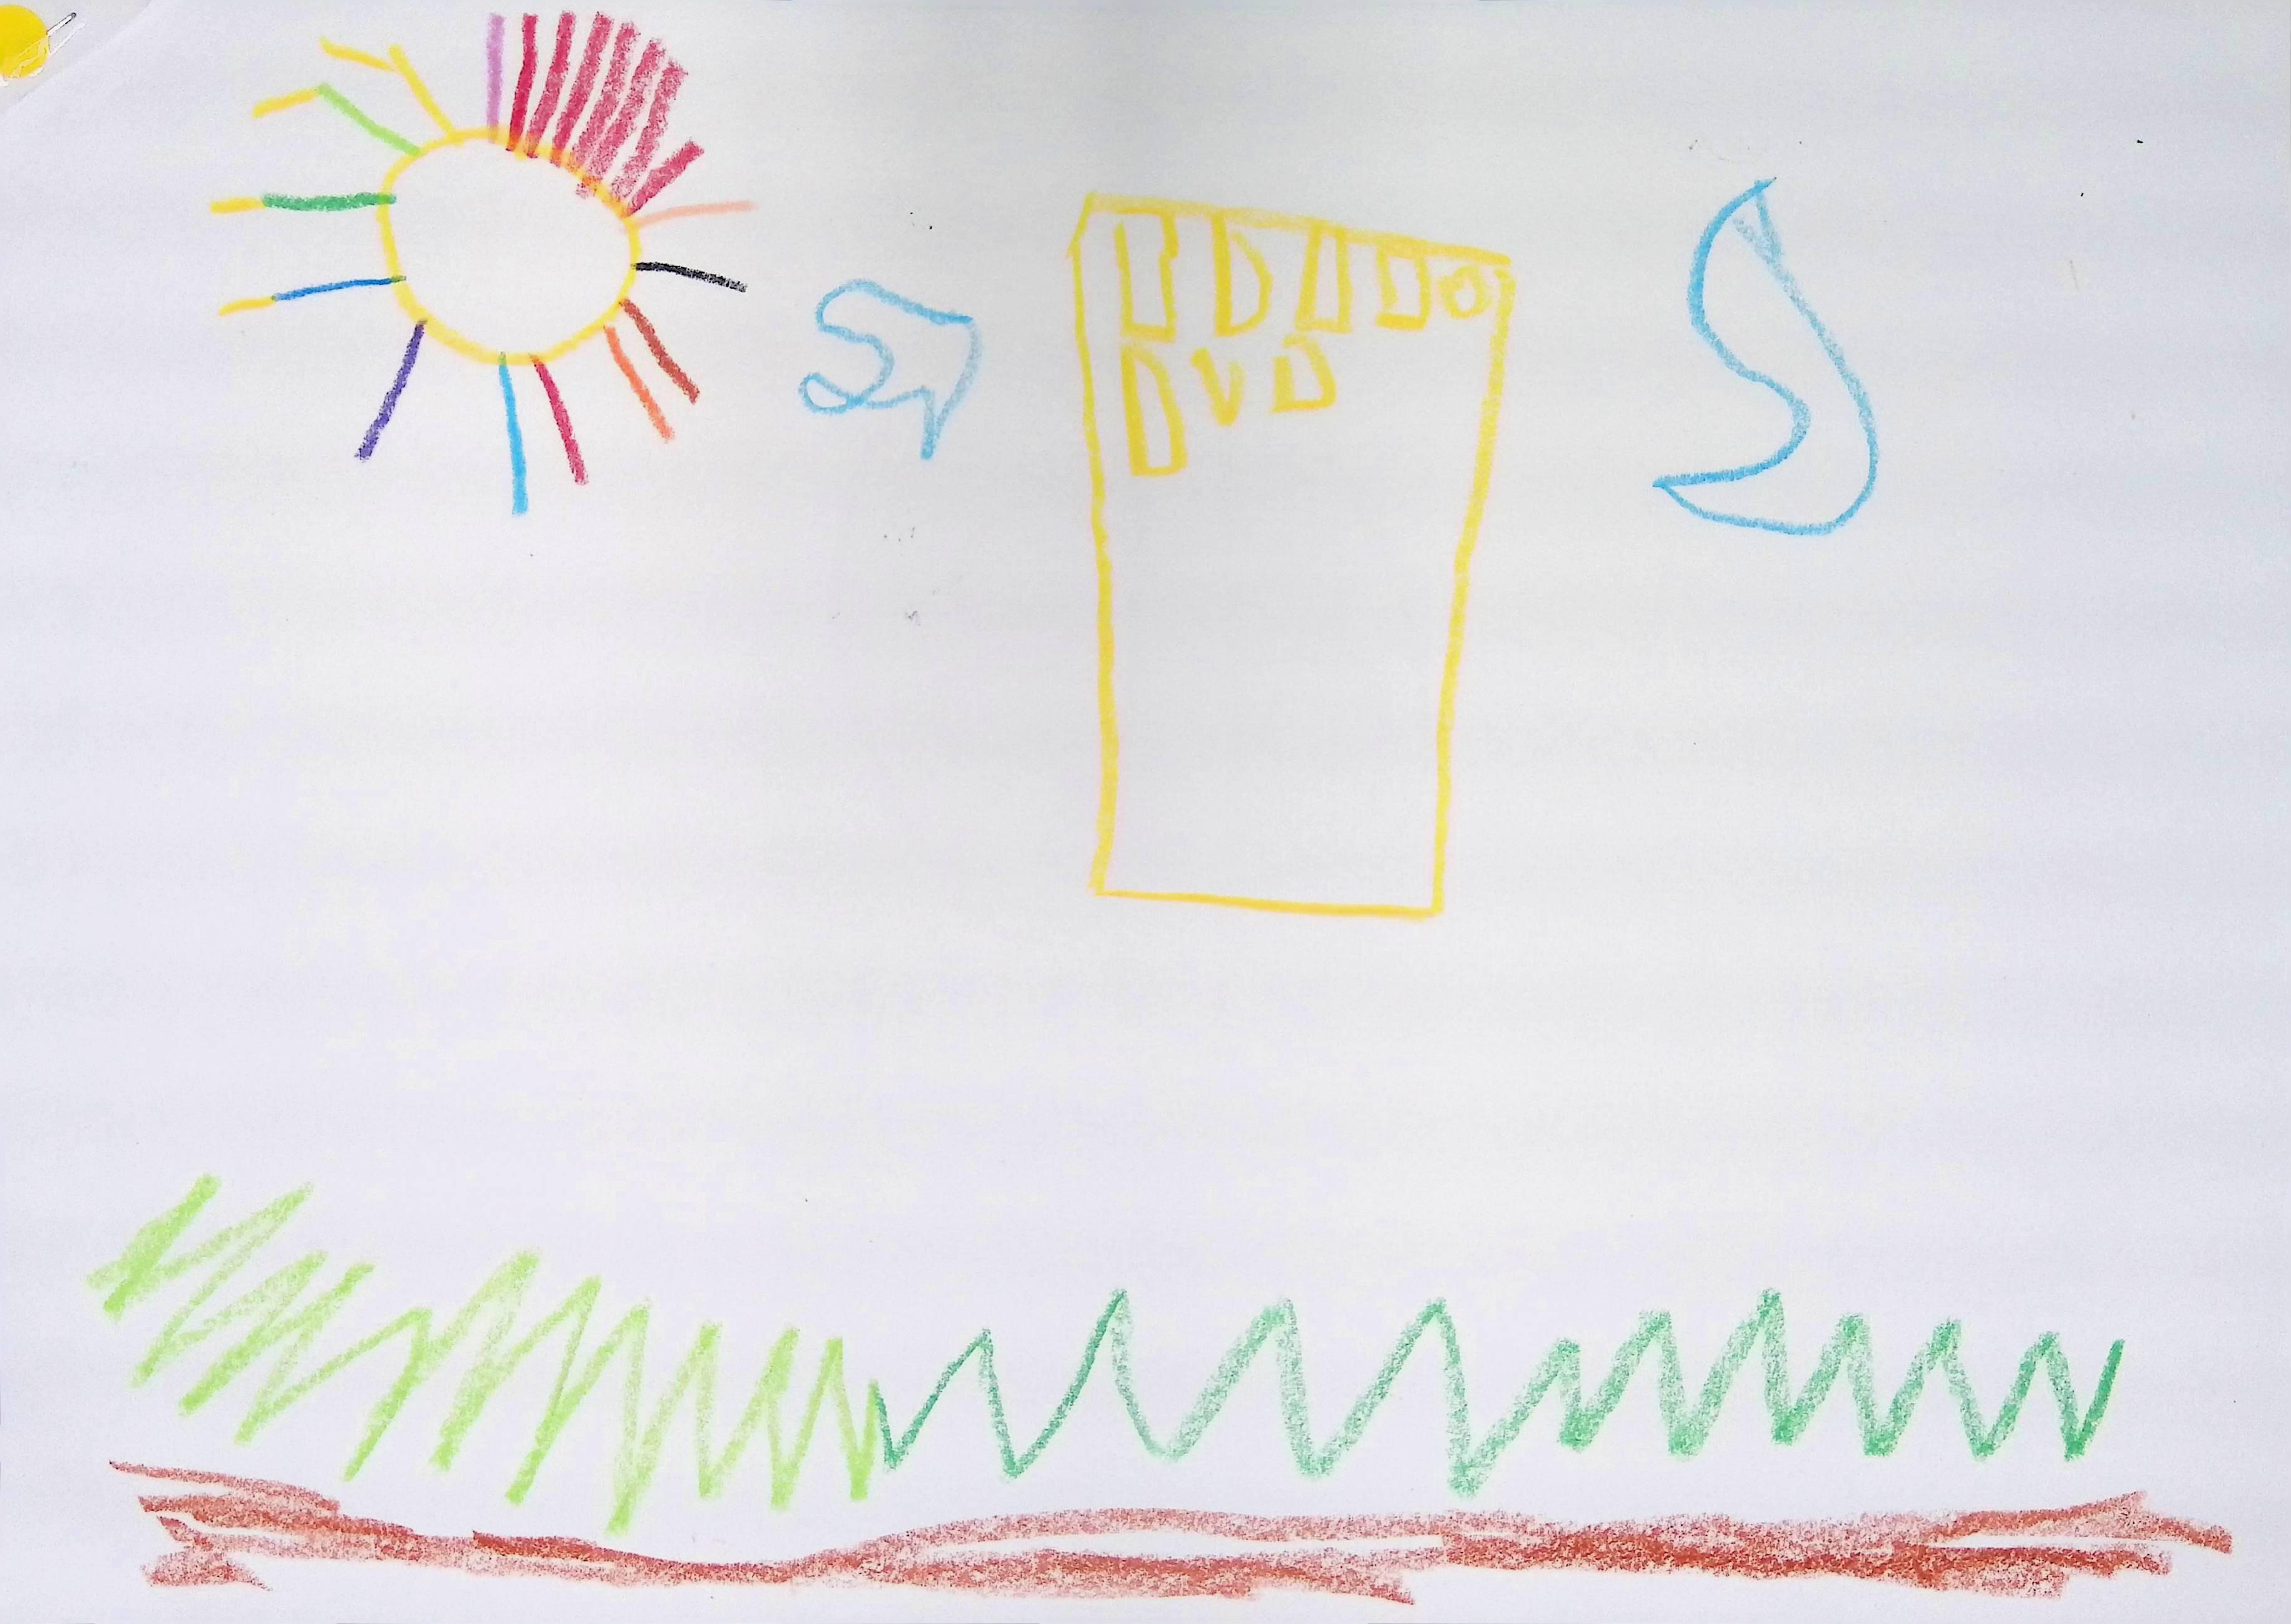house: (1072, 192, 1516, 917)
wall: (1072, 192, 1516, 917)
window: (1121, 343, 1188, 473), (1267, 332, 1348, 413), (1374, 232, 1435, 332), (1124, 209, 1174, 330), (1304, 234, 1358, 337), (1191, 334, 1249, 424), (1219, 232, 1272, 329), (1441, 265, 1500, 330)
